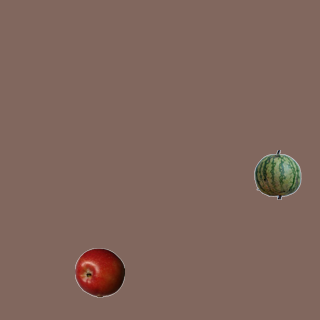Apple Braeburn: (74, 247, 124, 297)
Watermelon: (252, 149, 302, 199)
